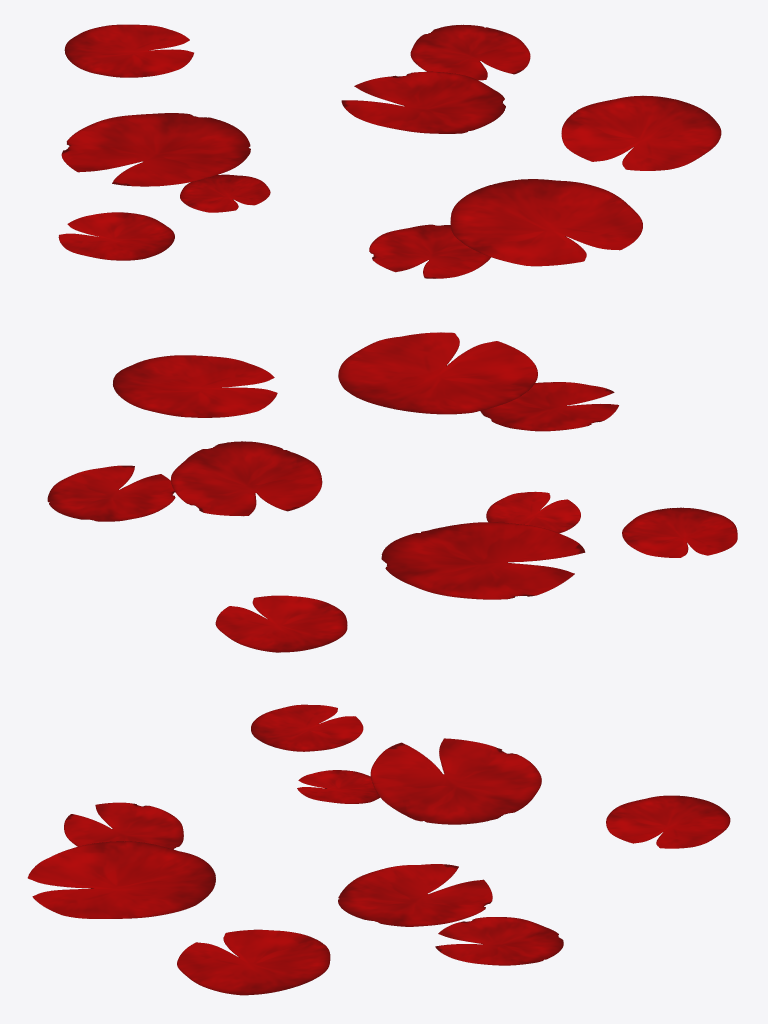
The model's file is SM_Water_Lily_02.fbx.
3 renders of one model, top to bottom at view 1: azimuth 30°, elevation 25°; view 2: azimuth 150°, elevation 25°; view 3: azimuth 270°, elevation 25°, orthographic. The views are drawn at different scales.
Visible parts, largest first — view 1: SM_Water_Lily_02; view 2: SM_Water_Lily_02; view 3: SM_Water_Lily_02.
Boxes of the visible parts, bbox=[...] form: SM_Water_Lily_02: bbox=[58, 24, 721, 278]; SM_Water_Lily_02: bbox=[47, 332, 737, 652]; SM_Water_Lily_02: bbox=[27, 704, 730, 995].
Size of the model in its own units: 349 by 5.96 by 344.
